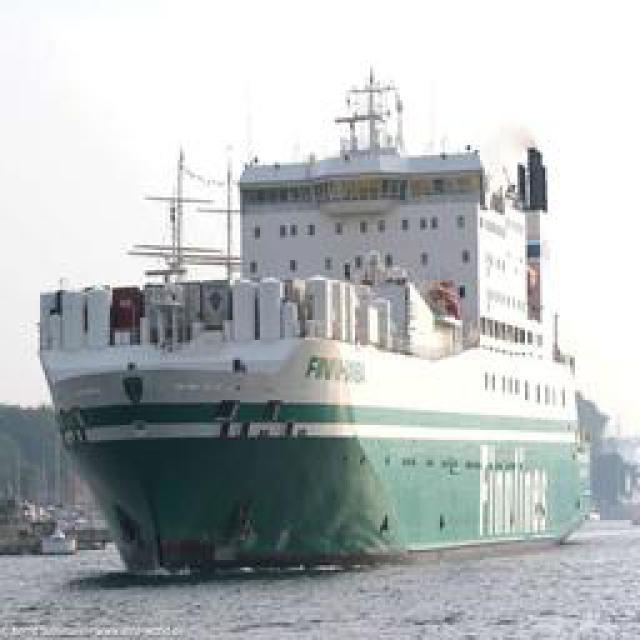Ship: (36, 102, 614, 572)
